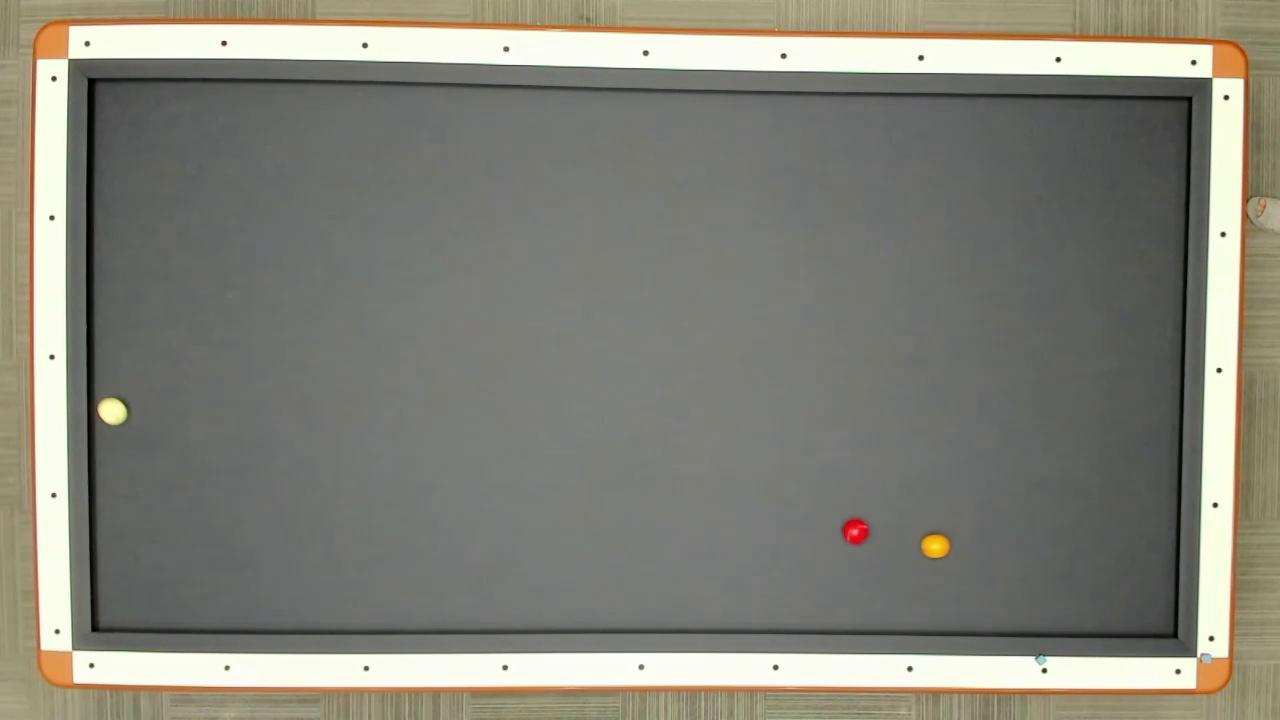Red: (842, 516, 872, 547)
White: (96, 396, 130, 428)
Yellow: (919, 532, 952, 560)
